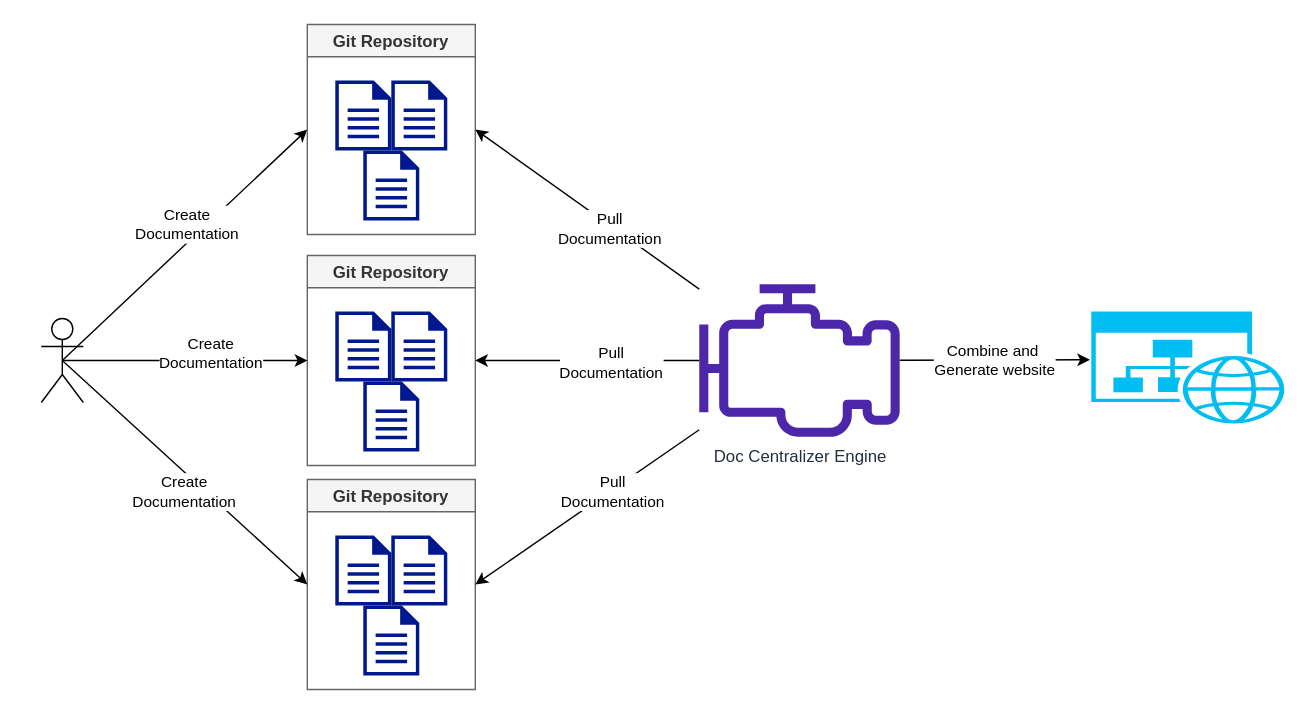
Some shapes in this 1312 by 714 pixel diagram are drawn without their labels. Each missing label, with the centre of its shape:
"All Documentations" goes at (x=1189, y=367).
"Dev Team" goes at (x=61, y=359).
